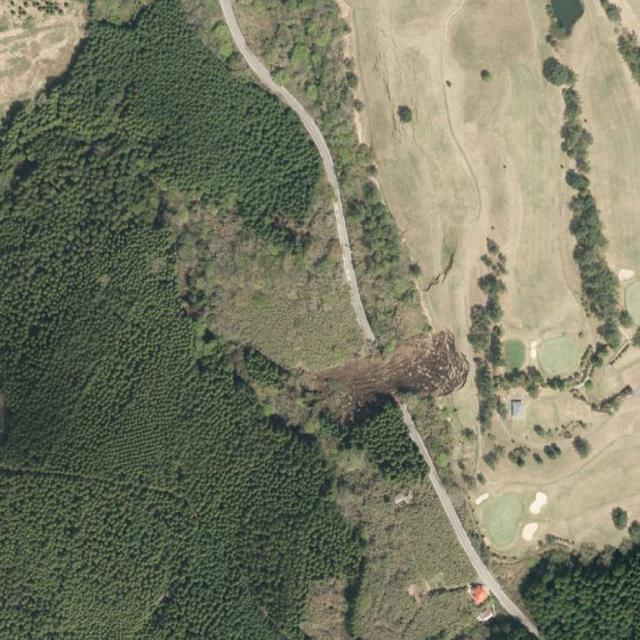landslide: (307, 332, 470, 422)
